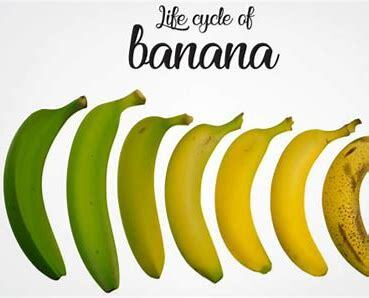banana: (69, 89, 143, 292), (268, 119, 360, 276), (4, 95, 79, 281), (164, 112, 243, 283), (213, 116, 296, 275), (117, 115, 190, 279), (322, 133, 367, 278)
